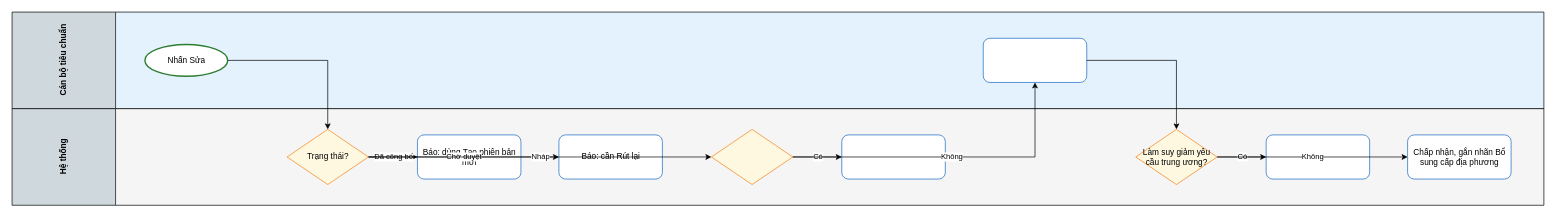
Some shapes in this 1556 by 217 pixel diagram are drawn without their labels. Each missing label, with the centre of its shape:
Chặn tại ô, nêu yêu cầu gốc: the point at 1317,156
Mở chế độ chỉ xem: the point at 893,156
Người khác đang sửa?: the point at 752,157
Sửa yêu cầu kế thừa: the point at 1035,60
